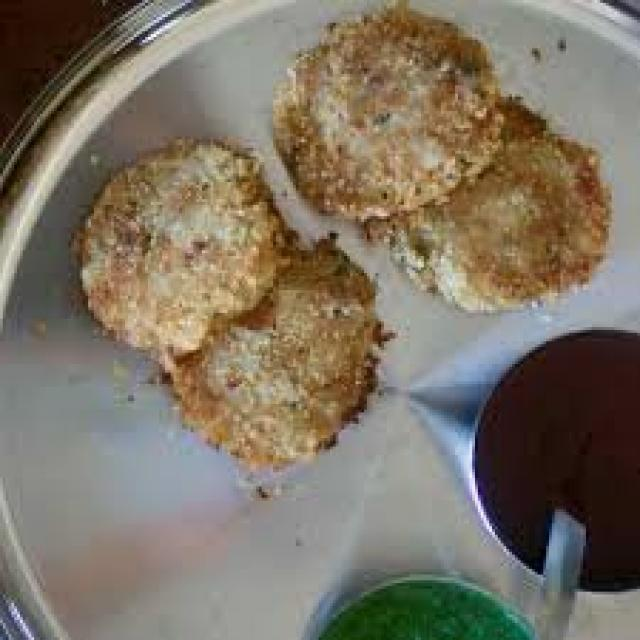Aloo Tikki: (175, 234, 382, 467), (274, 11, 498, 222), (391, 104, 612, 308), (80, 146, 284, 357)
